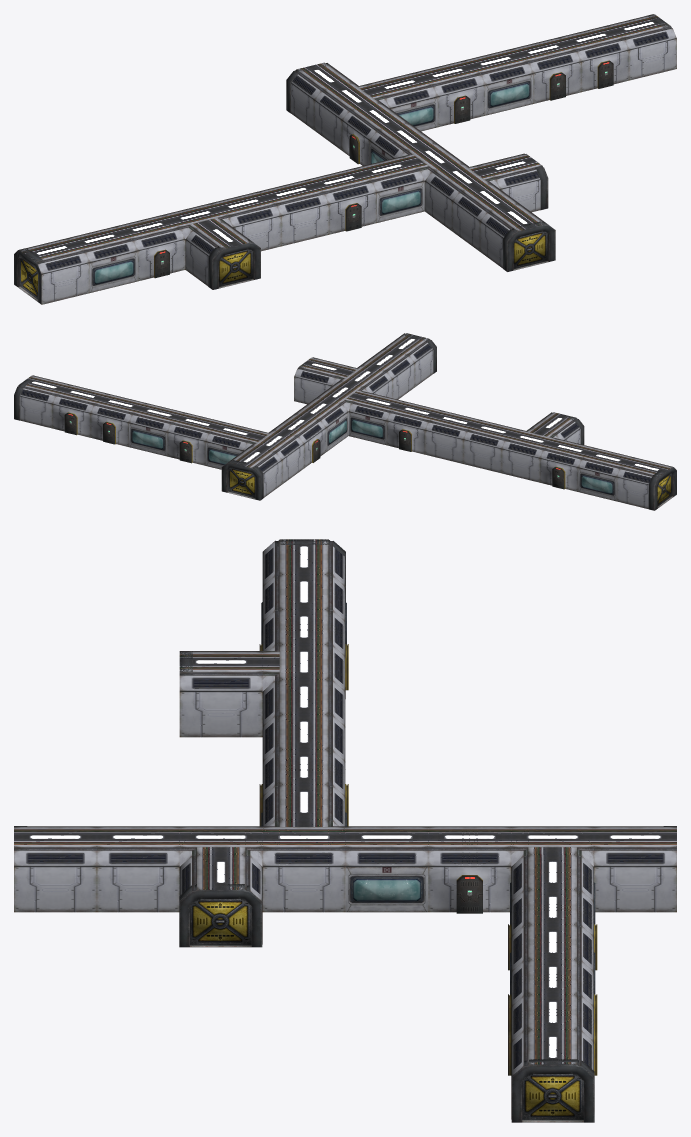
Rendered from Corredores.fbx.
3 renders of one model, top to bottom at view 1: azimuth 30°, elevation 25°; view 2: azimuth 150°, elevation 25°; view 3: azimuth 270°, elevation 25°, orthographic. The views are drawn at different scales.
Visible parts, largest first — view 1: MESH_CORREDOR_FAKE_DOOR_WAY.006, MESH_CORREDOR_FAKE_DOOR_WAY.002, MESH_CORREDOR_FAKE_DOOR_WAY.004, MESH_CORREDOR_WINDOWs_NEW.002, MESH_CORREDOR_WINDOWs_NEW.004, MESH_CORREDOR_FAKE_DOOR_WAY.005, MESH_CORREDOR_FAKE_DOOR_WAY.003, MESH_CORREDOR_NORMAL.007, MESH_CORREDOR_WINDOWs_NEW.003, MESH_CORREDOR_NORMAL.005, MESH_CORREDOR_NORMAL.009, MESH_CORREDOR_WINDOWs_NEW.001 (+15 smaller); view 2: MESH_CORREDOR_03_WAY.004, MESH_CORREDOR_FAKE_DOOR_WAY.004, MESH_CORREDOR_FAKE_DOOR_WAY.006, MESH_CORREDOR_FAKE_DOOR_WAY.005, MESH_CORREDOR_FAKE_DOOR_WAY.002, MESH_CORREDOR_FAKE_DOOR_WAY.003, MESH_CORREDOR_WINDOWs_NEW.002, MESH_CORREDOR_NORMAL.006, MESH_CORREDOR_WINDOWs_NEW.004, MESH_CORREDOR_NORMAL.007, MESH_CORREDOR_WINDOWs_NEW.003, MESH_CORREDOR_NORMAL.009 (+15 smaller); view 3: MESH_CORREDOR_03_WAY.003, MESH_CORREDOR_WINDOWs_NEW.005, MESH_CORREDOR_FAKE_DOOR_WAY.001, MESH_CORREDOR_NORMAL.008, MESH_CORREDOR_NORMAL.001, MESH_CORREDOR_NORMAL.002, MESH_CORREDOR_NORMAL.004, MESH_DOOR_LAB.014, MESH_DOOR_LAB.011, MESH_CORREDOR_FAKE_DOOR_WAY.003, MESH_CORREDOR_FAKE_DOOR_WAY.005, MESH_CORREDOR_FAKE_DOOR_WAY.002 (+14 smaller).
Boxes of the visible parts, x1,y1,x2,y2 form: MESH_CORREDOR_FAKE_DOOR_WAY.006: (114, 215, 185, 281); MESH_CORREDOR_FAKE_DOOR_WAY.002: (414, 61, 485, 127); MESH_CORREDOR_FAKE_DOOR_WAY.004: (510, 37, 581, 103); MESH_CORREDOR_WINDOWs_NEW.002: (462, 49, 533, 115); MESH_CORREDOR_WINDOWs_NEW.004: (66, 227, 137, 292); MESH_CORREDOR_FAKE_DOOR_WAY.005: (306, 168, 376, 234); MESH_CORREDOR_FAKE_DOOR_WAY.003: (558, 26, 628, 92); MESH_CORREDOR_NORMAL.007: (258, 180, 328, 246); MESH_CORREDOR_WINDOWs_NEW.003: (354, 157, 424, 222); MESH_CORREDOR_NORMAL.005: (606, 14, 676, 80); MESH_CORREDOR_NORMAL.009: (18, 238, 89, 304); MESH_CORREDOR_WINDOWs_NEW.001: (366, 72, 437, 131); MESH_CORREDOR_03_WAY.004: (501, 428, 558, 482); MESH_CORREDOR_FAKE_DOOR_WAY.004: (90, 394, 147, 446); MESH_CORREDOR_FAKE_DOOR_WAY.006: (540, 439, 596, 491); MESH_CORREDOR_FAKE_DOOR_WAY.005: (386, 401, 443, 454); MESH_CORREDOR_FAKE_DOOR_WAY.002: (167, 412, 223, 465); MESH_CORREDOR_FAKE_DOOR_WAY.003: (52, 384, 108, 437); MESH_CORREDOR_WINDOWs_NEW.002: (129, 403, 185, 456); MESH_CORREDOR_NORMAL.006: (463, 420, 519, 473); MESH_CORREDOR_WINDOWs_NEW.004: (578, 448, 634, 501); MESH_CORREDOR_NORMAL.007: (425, 411, 481, 463); MESH_CORREDOR_WINDOWs_NEW.003: (348, 392, 405, 445); MESH_CORREDOR_NORMAL.009: (616, 457, 675, 508); MESH_CORREDOR_03_WAY.003: (262, 819, 345, 912); MESH_CORREDOR_WINDOWs_NEW.005: (345, 826, 428, 912); MESH_CORREDOR_FAKE_DOOR_WAY.001: (428, 826, 511, 913); MESH_CORREDOR_NORMAL.008: (179, 651, 262, 737); MESH_CORREDOR_NORMAL.001: (14, 826, 96, 912); MESH_CORREDOR_NORMAL.002: (97, 826, 179, 912); MESH_CORREDOR_NORMAL.004: (594, 826, 676, 912); MESH_DOOR_LAB.014: (511, 1059, 594, 1122); MESH_DOOR_LAB.011: (179, 884, 262, 947); MESH_CORREDOR_FAKE_DOOR_WAY.003: (508, 994, 597, 1075); MESH_CORREDOR_FAKE_DOOR_WAY.005: (259, 749, 348, 826); MESH_CORREDOR_FAKE_DOOR_WAY.002: (508, 889, 597, 970).
Size of the model in its own units: 60 by 3.07 by 32.
